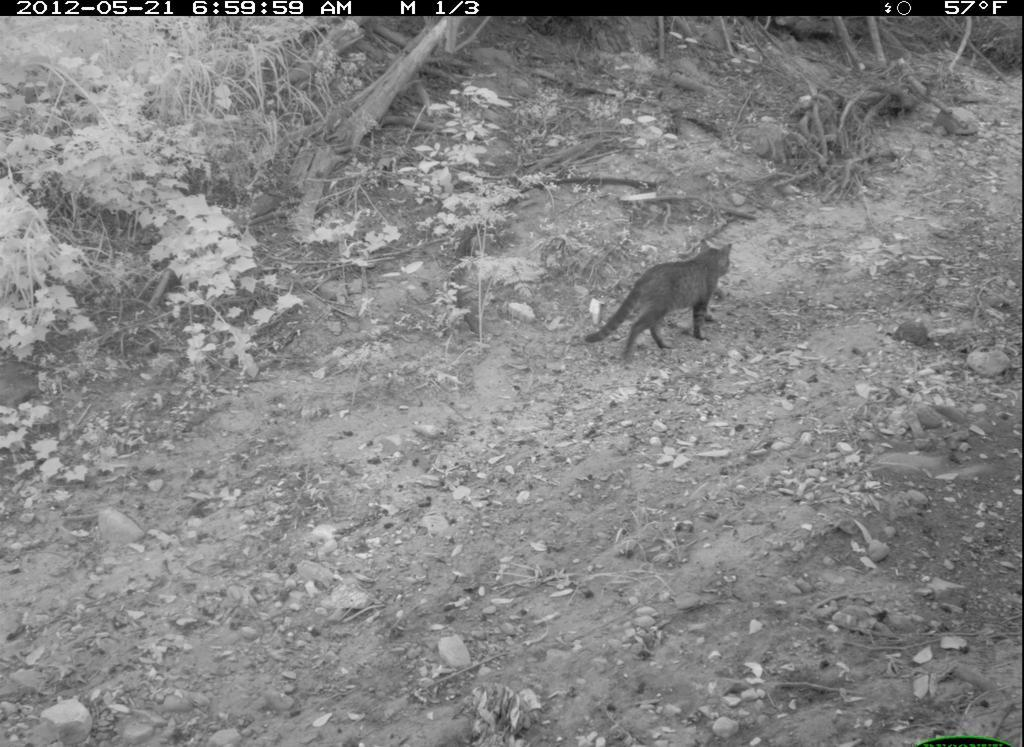cat: (582, 233, 737, 373)
